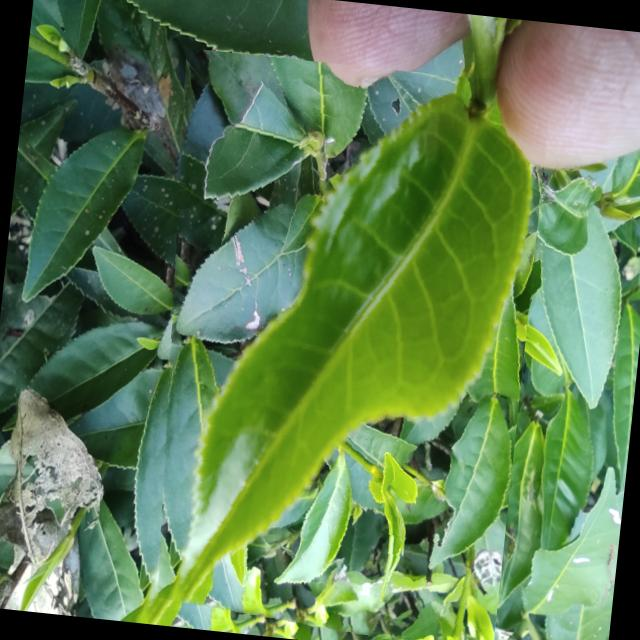Category B(2-4 days): (123, 47, 550, 640)
